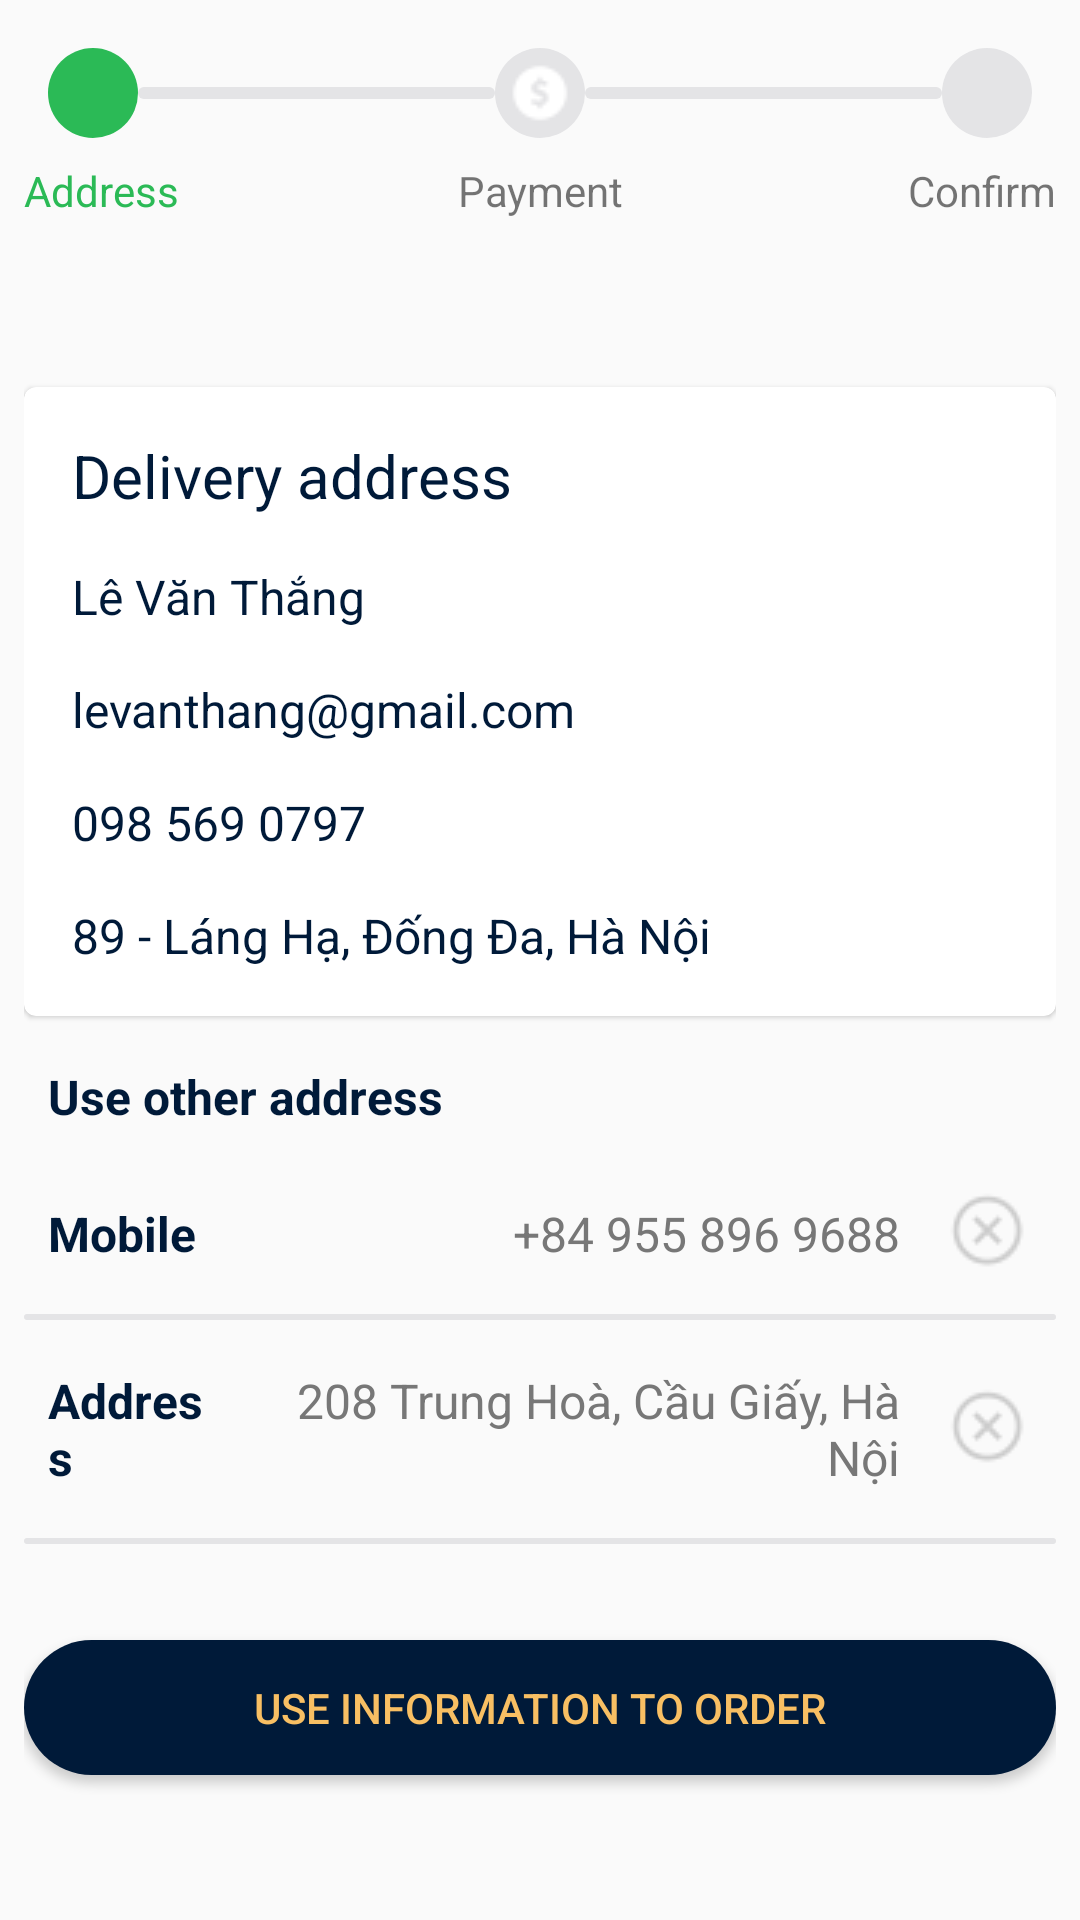

Where icons sit on this 1080px x 1920px app screen, as (x1, y1, x2, y2):
close line: (954, 1197, 1021, 1264), (954, 1393, 1021, 1460)
